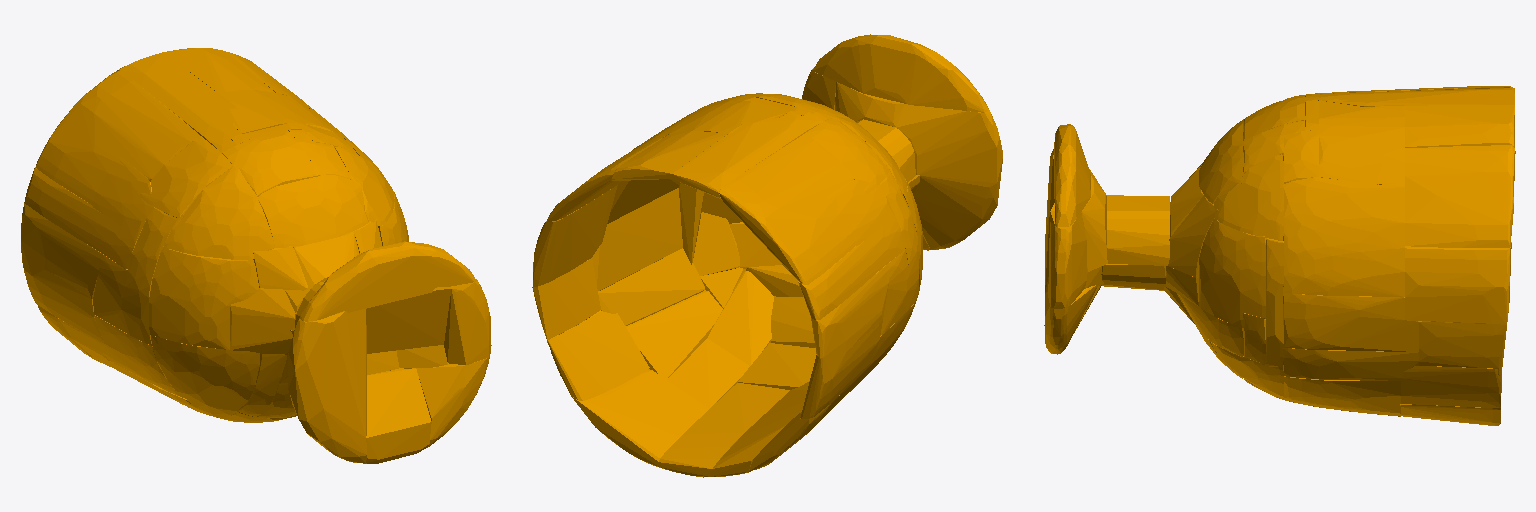
URDF robot description (glass-new):
<?xml version="1.0" ?>
<robot name="glass-new">
  <link name="baseLink">
    <contact>
      <lateral_friction value="1.0"/>
      <inertia_scaling value="3.0"/>
    </contact>
    <inertial>
      <origin rpy="0 0 0" xyz="0.000 0.000 0.000"/>
       <mass value=".1"/>
       <inertia ixx="1" ixy="0.0" ixz="0.0" iyy="1" iyz="0.0" izz="1"/>
    </inertial>
    <visual>
      <origin rpy="0 0 0" xyz="0 0 0"/>
      <geometry>
        <mesh filename="glass/glass-new_1.obj" scale="1.0 1.0 1.0"/>
      </geometry>
    </visual>
    <collision>
      <origin rpy="0 0 0" xyz="0 0 0"/>
      <geometry>
        <mesh filename="../collision/glass/glass-new_1.obj" scale="1.0 1.0 1.0"/>
      </geometry>
    </collision>
  </link>
</robot>
        

--- Render facts (derived) ---
The picture shows the robot from 3 angles, left to right: view 1: azimuth 30°, elevation 25°; view 2: azimuth 150°, elevation 25°; view 3: azimuth 270°, elevation 25°; orthographic projection.
Model glass-new with 1 links and 0 joints (none), rooted at baseLink, posed all joints at 0.
Links seen in each view (by area): view 1: baseLink; view 2: baseLink; view 3: baseLink.
Link boxes in pixels (x1,y1,x2,y2): baseLink: (21,48,491,463); baseLink: (532,34,1002,477); baseLink: (1044,86,1515,425).
Size in the robot's own frame: 0.0844 by 0.1192 by 0.0846 metres.
Meshes: 1 distinct files referenced, 1 mesh visuals loaded (1 OBJ).